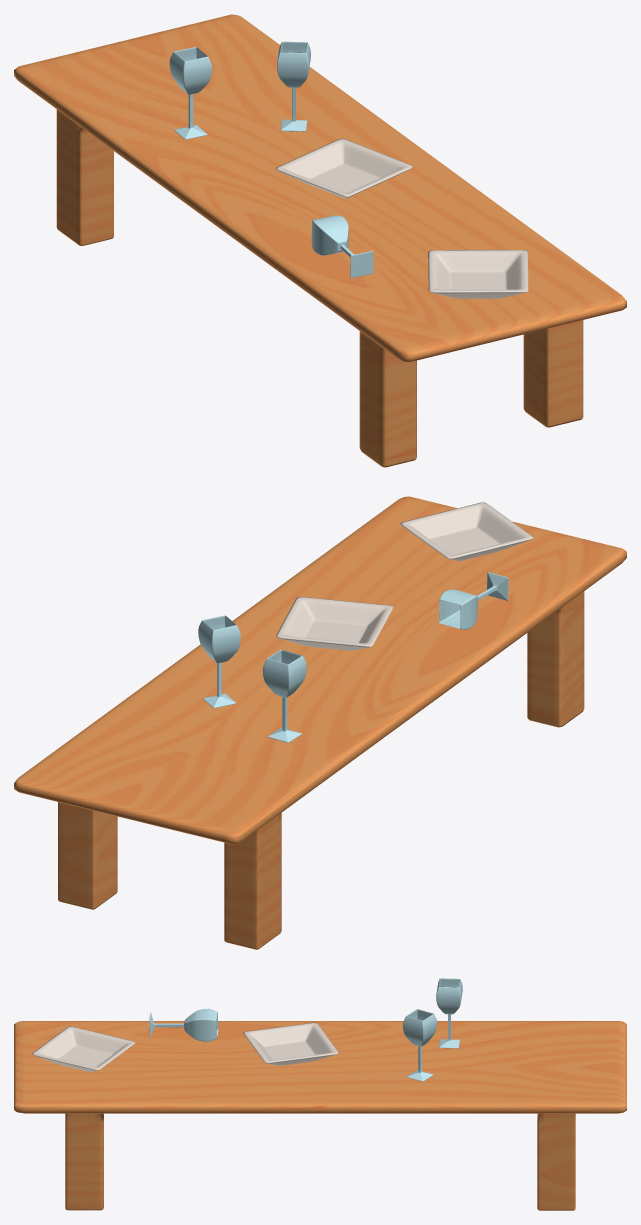
Rendered from table fbx.fbx.
The picture shows the model from 3 angles, top to bottom: view 1: azimuth 30°, elevation 25°; view 2: azimuth 150°, elevation 25°; view 3: azimuth 270°, elevation 25°; orthographic projection. The views are drawn at different scales.
Parts seen in each view (by area): view 1: pCube3, pCube11, pCube4, pCube12, pCube13, pCube6; view 2: pCube3, pCube4, pCube11, pCube12, pCube6, pCube13; view 3: pCube3, pCube4, pCube11, pCube6, pCube13, pCube12.
Part boxes in pixels (left/top/right/bottom): pCube3: left=14, top=14, right=626, bottom=467; pCube11: left=428, top=250, right=528, bottom=298; pCube4: left=275, top=138, right=412, bottom=198; pCube12: left=169, top=47, right=212, bottom=139; pCube13: left=311, top=215, right=373, bottom=278; pCube6: left=277, top=41, right=310, bottom=131; pCube3: left=14, top=496, right=626, bottom=949; pCube4: left=276, top=597, right=393, bottom=650; pCube11: left=400, top=502, right=533, bottom=560; pCube12: left=262, top=649, right=306, bottom=742; pCube6: left=198, top=615, right=240, bottom=708; pCube13: left=439, top=572, right=508, bottom=629; pCube3: left=14, top=1021, right=626, bottom=1210; pCube4: left=243, top=1022, right=338, bottom=1065; pCube11: left=32, top=1026, right=135, bottom=1071; pCube6: left=403, top=1009, right=437, bottom=1081; pCube13: left=149, top=1008, right=218, bottom=1041; pCube12: left=436, top=978, right=462, bottom=1048.
Size of the model in its own units: 7.25 by 6.8 by 21.87.
1 material, 1 textured.
